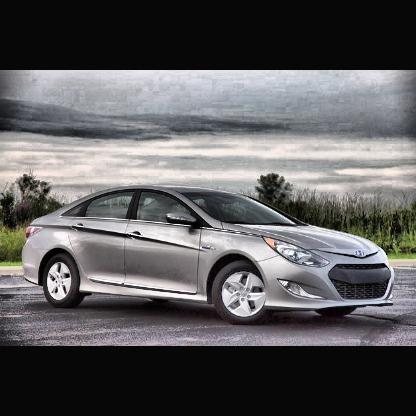Hyundai Sonata Hybrid Sedan 2012: (21, 186, 397, 321)
